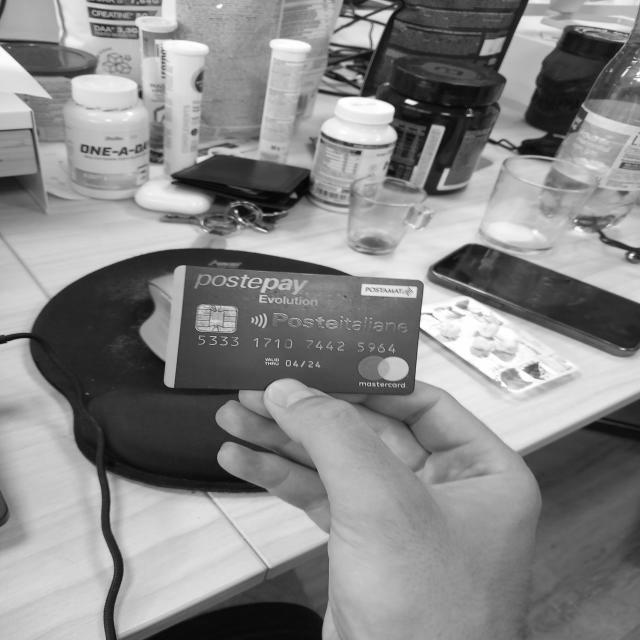card: (163, 264, 425, 395)
